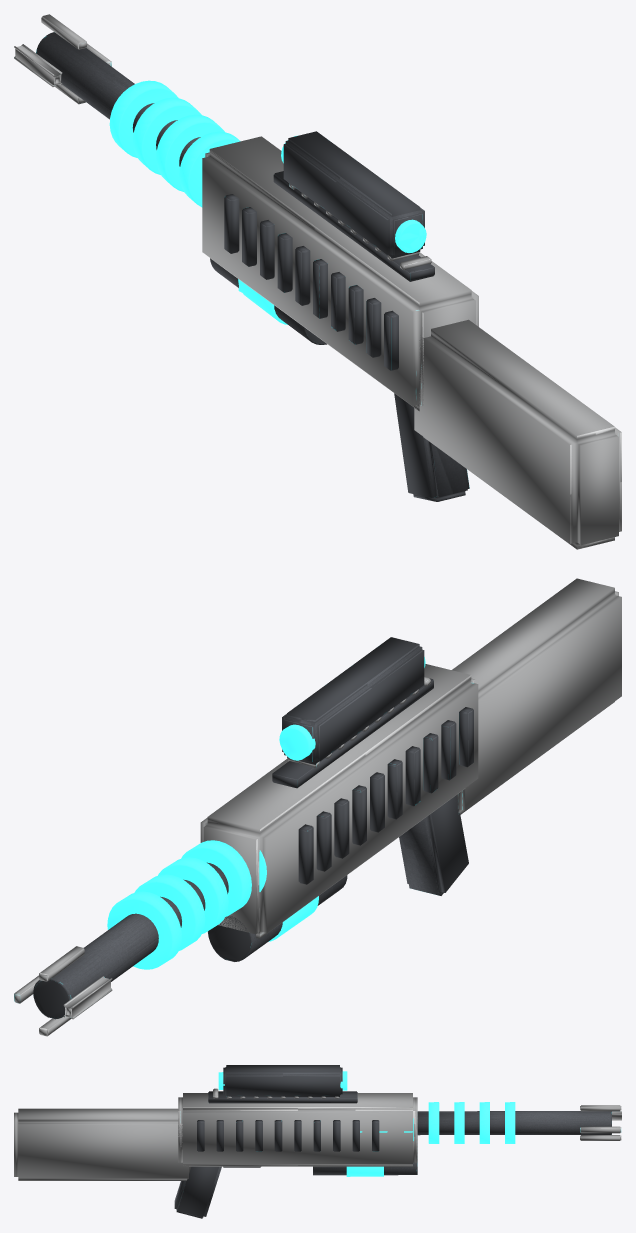
The model's file is SM_Weapon_LaserGun.glb.
The picture shows the model from 3 angles, top to bottom: view 1: azimuth 30°, elevation 25°; view 2: azimuth 150°, elevation 25°; view 3: azimuth 270°, elevation 25°; orthographic projection. The views are drawn at different scales.
Visible parts, largest first — view 1: SM_Weapon_LaserGun; view 2: SM_Weapon_LaserGun; view 3: SM_Weapon_LaserGun.
Part boxes in pixels (x1,y1,x2,y2): SM_Weapon_LaserGun: (14,14,621,549); SM_Weapon_LaserGun: (14,578,621,1036); SM_Weapon_LaserGun: (14,1065,621,1218).
Size of the model in its own units: 0.072 by 0.2158 by 0.8136.
1 material, 1 textured.
